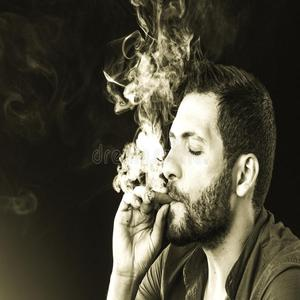cigarette: (146, 188, 175, 207)
